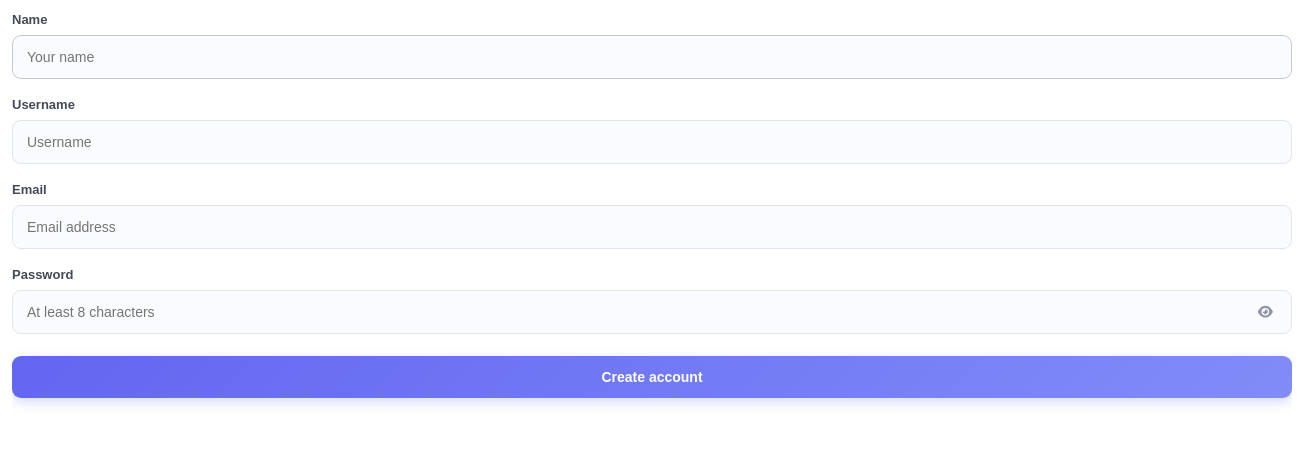
RegisterForm › shows duplicate username or email errors from the API
Step 1. Type "Alex Johnson" into the field with test id "register-name-input" → (652, 57), box [12,35,1292,79]
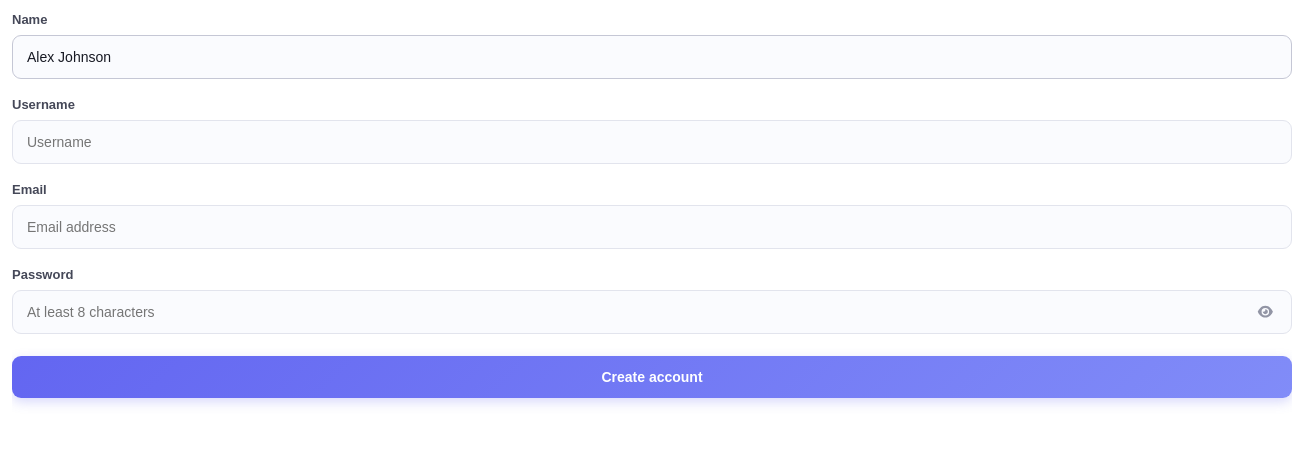
Step 2. Type "alexj" into the field with test id "register-username-input" → (652, 142), box [12,120,1292,164]
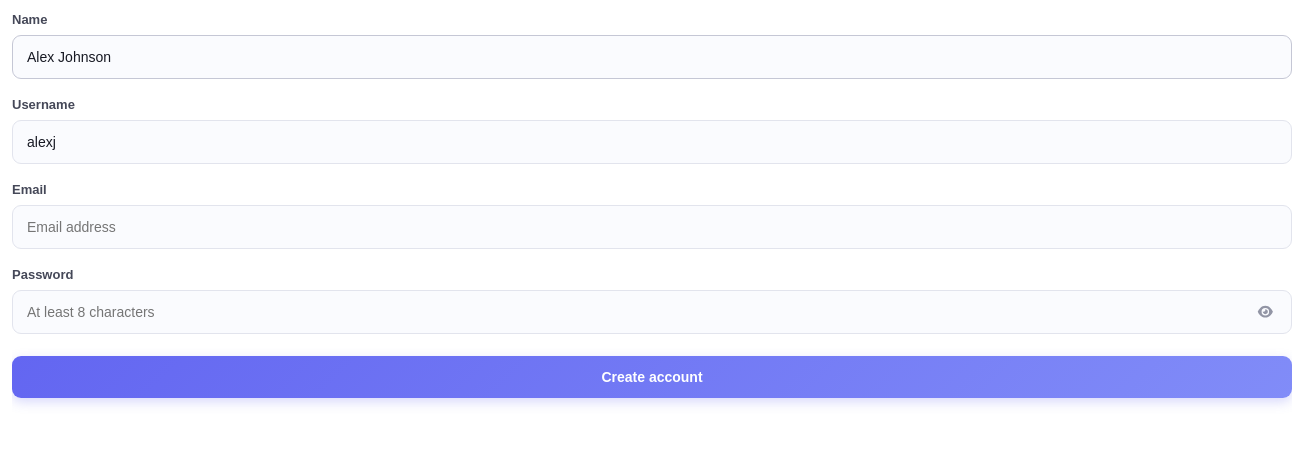
Step 3. Type "alex@example.com" into the field with test id "register-email-input" → (652, 227), box [12,205,1292,249]
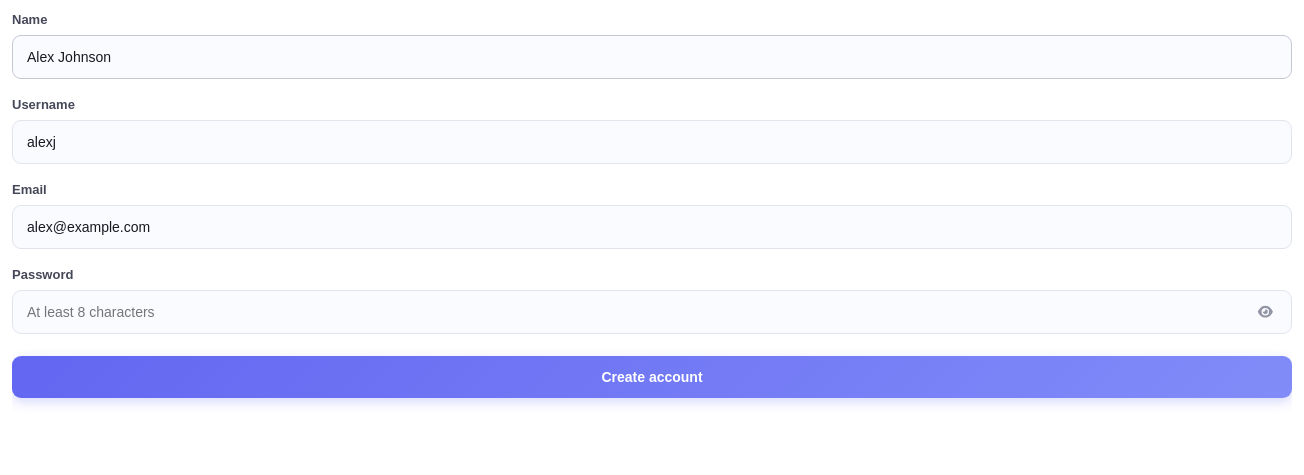
Step 4. Type "password123" into the password field with test id "register-password-input" → (652, 312), box [12,290,1292,334]
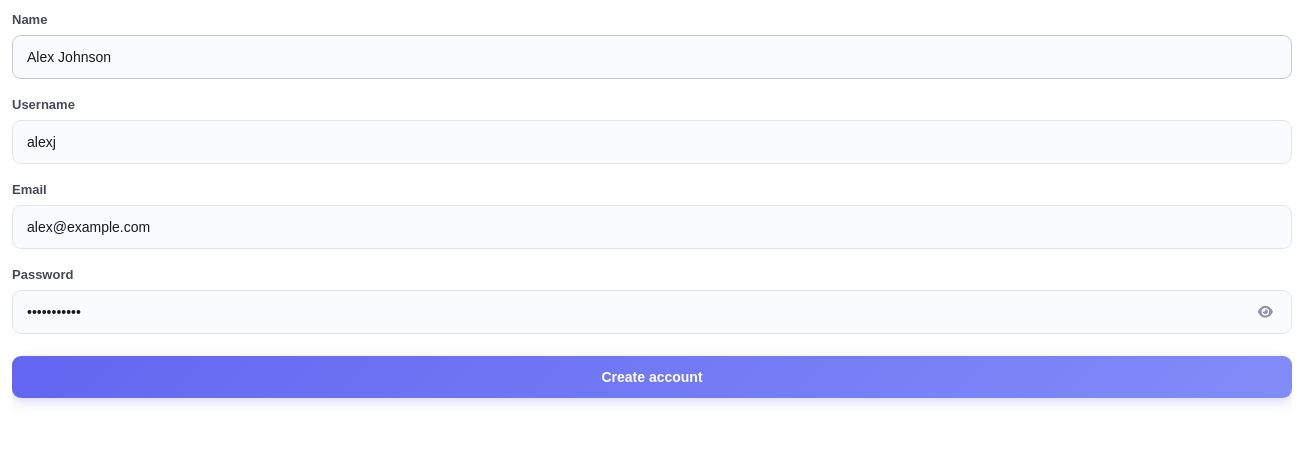
Step 5. Click the button with test id "register-submit" → (652, 377), box [12,356,1292,398]
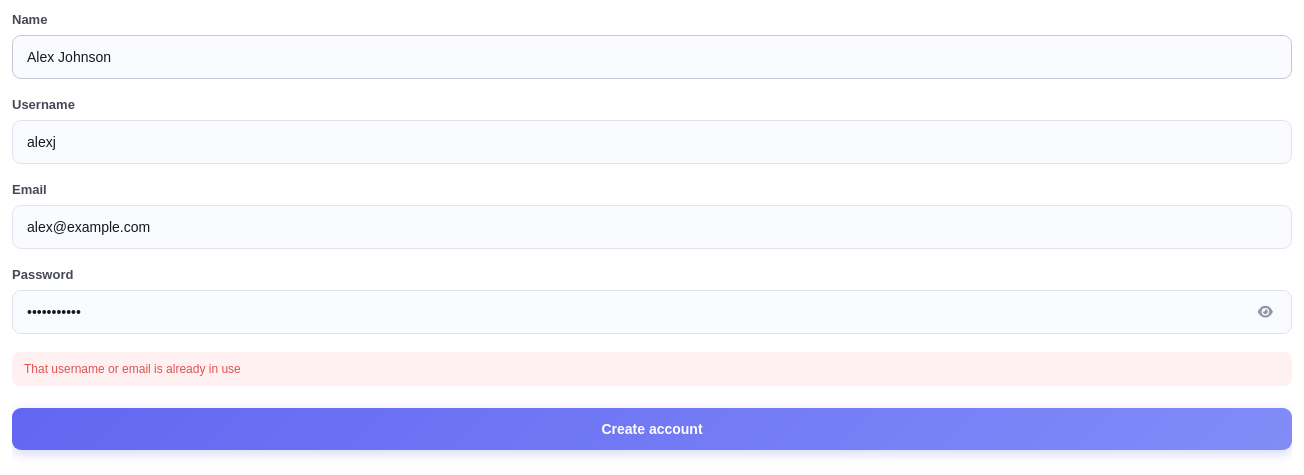
Expected: the text with test id "register-server-error" reads "That username or email is already in use", [24,362,241,376]
